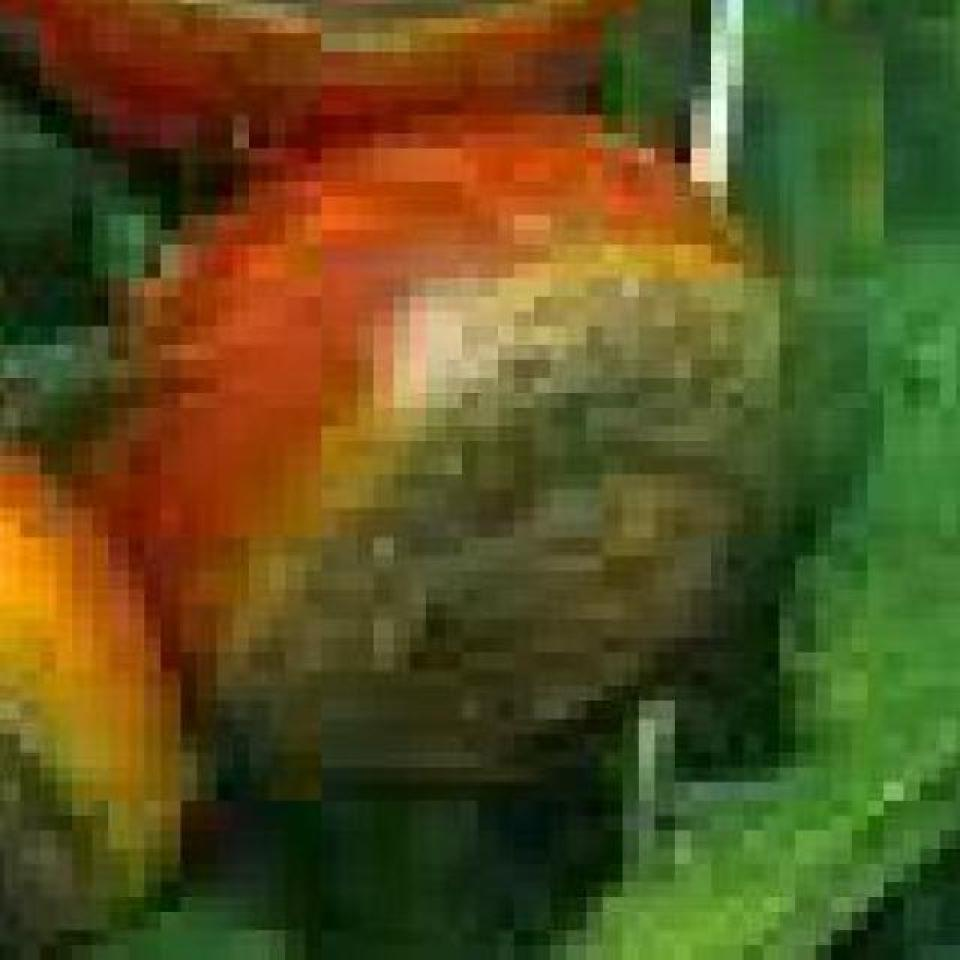Blossom_end_rot: (213, 221, 787, 788), (0, 651, 136, 956), (127, 0, 565, 52)
